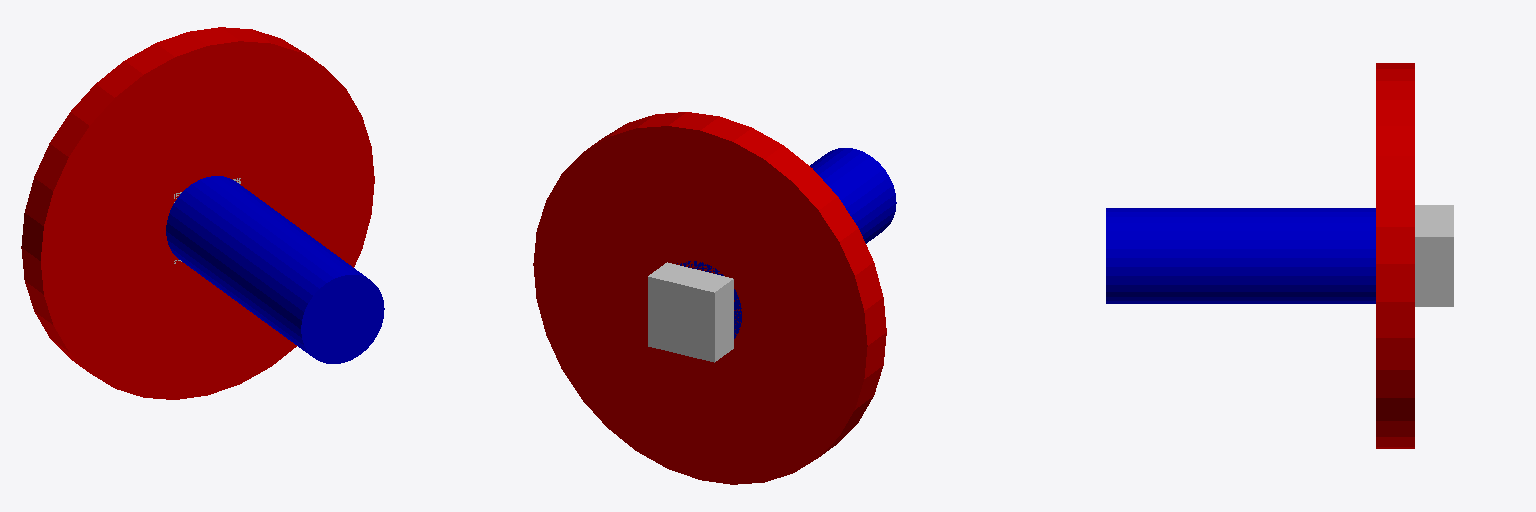
Rendered from maillet.obj.
The picture shows the model from 3 angles: view 1: azimuth 30°, elevation 25°; view 2: azimuth 150°, elevation 25°; view 3: azimuth 270°, elevation 25°; orthographic projection.
Parts seen in each view (by area): view 1: Cylinder, Cylinder.001; view 2: Cylinder, Cube, Cylinder.001; view 3: Cylinder.001, Cylinder, Cube.
Part boxes in pixels (x1,y1,x2,y2): Cylinder: (21,27,374,399); Cylinder.001: (166,176,384,363); Cylinder: (533,112,886,484); Cube: (648,262,733,362); Cylinder.001: (677,148,896,338); Cylinder.001: (1106,208,1375,303); Cylinder: (1376,63,1414,448); Cube: (1415,205,1453,306).
Size of the model in its own units: 10 by 10 by 9.